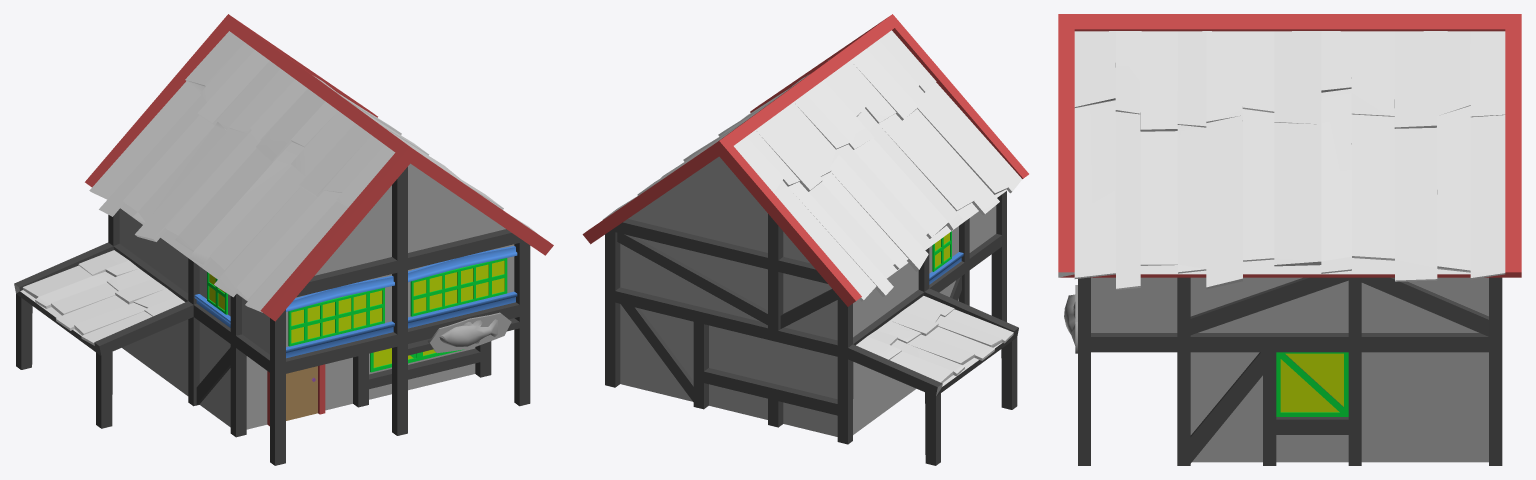
The model's file is Harbor_House_5.fbx.
The picture shows the model from 3 angles, left to right: view 1: azimuth 30°, elevation 25°; view 2: azimuth 150°, elevation 25°; view 3: azimuth 270°, elevation 25°; orthographic projection. The views are drawn at different scales.
Parts seen in each view (by area): view 1: Harbor_House_5, Harbor_House_5_Fish; view 2: Harbor_House_5; view 3: Harbor_House_5, Harbor_House_5_Fish.
Boxes of the visible parts, x1,y1,x2,y2 form: Harbor_House_5: (14, 14, 553, 465); Harbor_House_5_Fish: (427, 312, 511, 353); Harbor_House_5: (582, 14, 1028, 465); Harbor_House_5: (1058, 14, 1521, 465); Harbor_House_5_Fish: (1064, 285, 1077, 353).
Size of the model in its own units: 1120 by 833 by 938.
